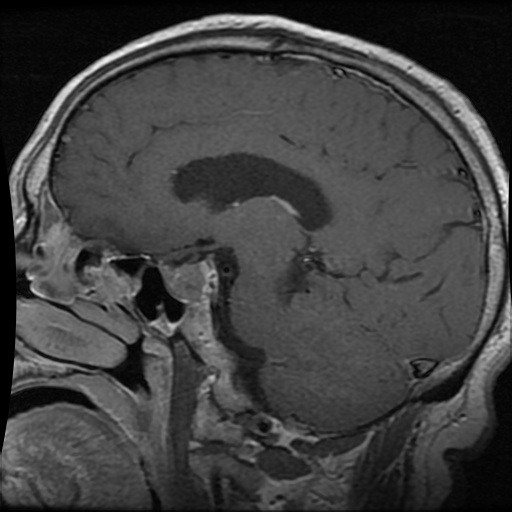pituitary: (159, 259, 205, 306)
